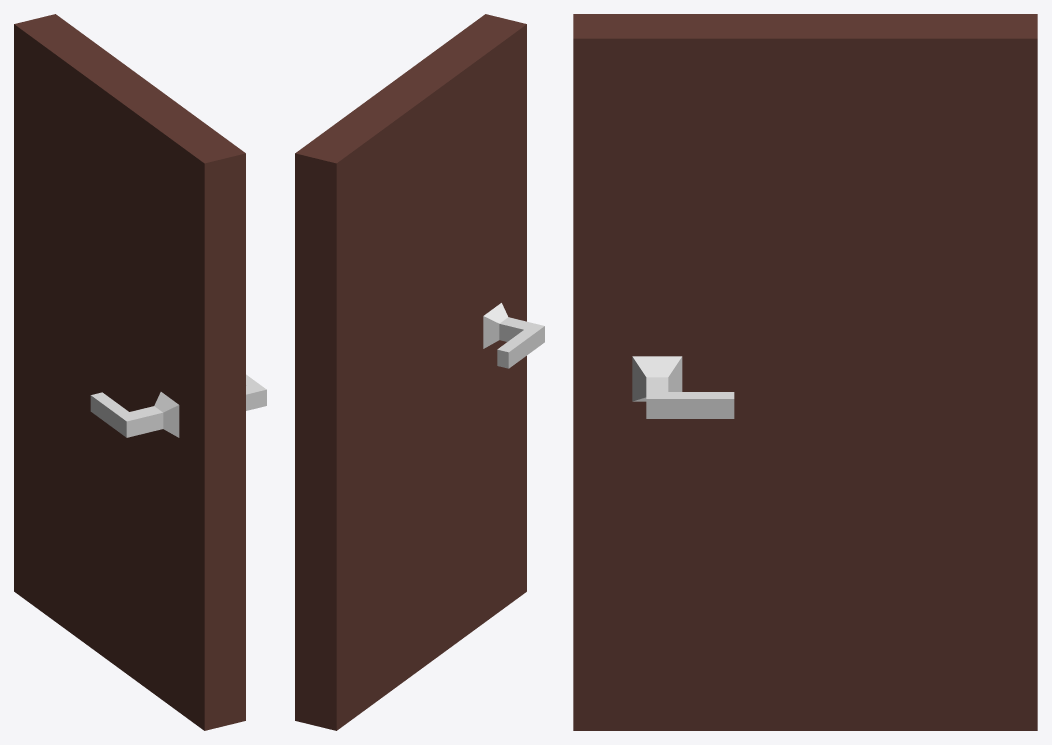
Rendered from Door.fbx.
The picture shows the model from 3 angles, left to right: view 1: azimuth 30°, elevation 25°; view 2: azimuth 150°, elevation 25°; view 3: azimuth 270°, elevation 25°; orthographic projection. The views are drawn at different scales.
Parts seen in each view (by area): view 1: Door, DoorHandle, DoorHandle.001; view 2: Door, DoorHandle; view 3: Door, DoorHandle.001.
Part boxes in pixels (x1,y1,x2,y2): Door: (14, 14, 245, 730); DoorHandle: (90, 392, 179, 437); DoorHandle.001: (246, 374, 266, 410); Door: (295, 14, 526, 730); DoorHandle: (483, 303, 544, 368); Door: (573, 14, 1037, 730); DoorHandle.001: (632, 356, 734, 418).
Size of the model in its own units: 129 by 500 by 304.
